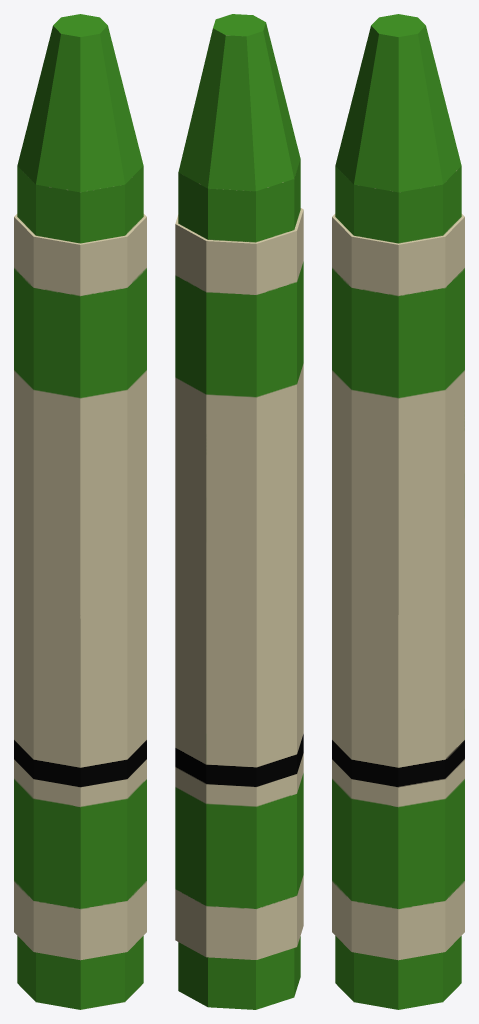
The model's file is CrayonGreen.fbx.
The picture shows the model from 3 angles, left to right: view 1: azimuth 90°, elevation 25°; view 2: azimuth 150°, elevation 25°; view 3: azimuth 270°, elevation 25°; orthographic projection.
Visible parts, largest first — view 1: BakeCrayonGreen; view 2: BakeCrayonGreen; view 3: BakeCrayonGreen.
Boxes of the visible parts, x1=… form: BakeCrayonGreen: x1=14, y1=14, x2=146, y2=1009; BakeCrayonGreen: x1=175, y1=14, x2=303, y2=1009; BakeCrayonGreen: x1=332, y1=14, x2=464, y2=1009.
Size of the model in its own units: 89.18 by 710 by 89.18.
